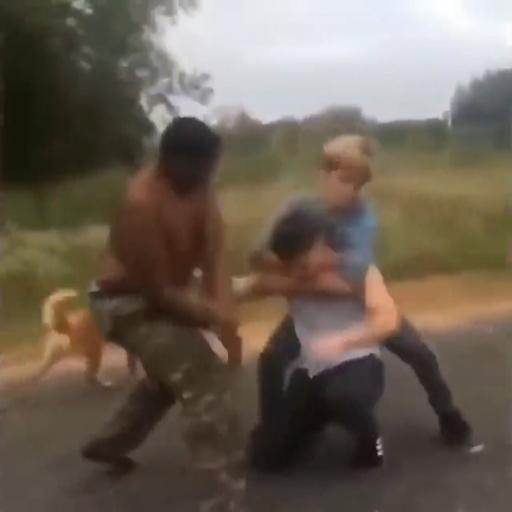violencia: (223, 129, 482, 485)
